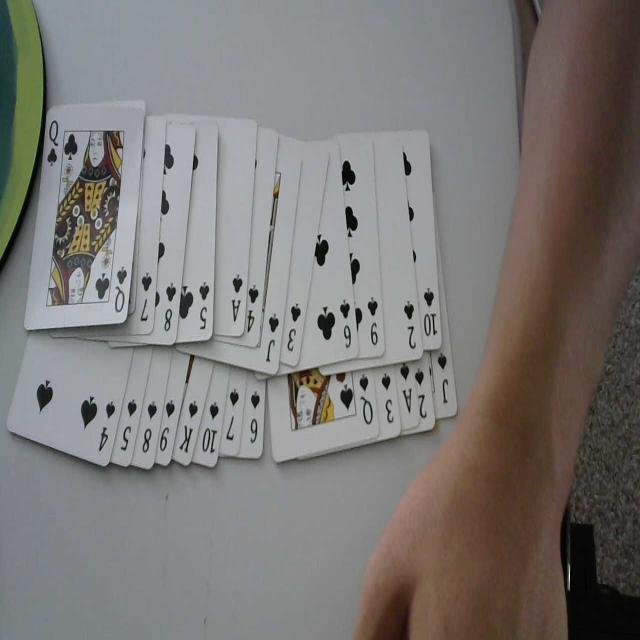10C: (422, 284, 440, 338)
10S: (180, 398, 200, 460), (201, 396, 220, 456)
2C: (403, 296, 417, 356)
2S: (413, 364, 429, 426), (399, 358, 413, 414)
3C: (286, 300, 302, 356)
4C: (244, 281, 260, 334)
4S: (98, 399, 118, 452), (379, 370, 397, 424)
5C: (196, 279, 210, 332)
5S: (120, 397, 139, 455)
6C: (339, 296, 355, 350)
6S: (248, 383, 262, 454)
7C: (139, 268, 154, 322)
7S: (224, 385, 242, 447)
8C: (161, 279, 177, 333)
8S: (141, 397, 157, 457)
9C: (366, 292, 381, 348)
9S: (158, 398, 176, 454)
AC: (230, 270, 246, 324)
JC: (262, 309, 282, 367)
JS: (436, 350, 452, 404)
QC: (44, 114, 61, 170), (113, 262, 127, 318)
QS: (358, 375, 376, 427)
